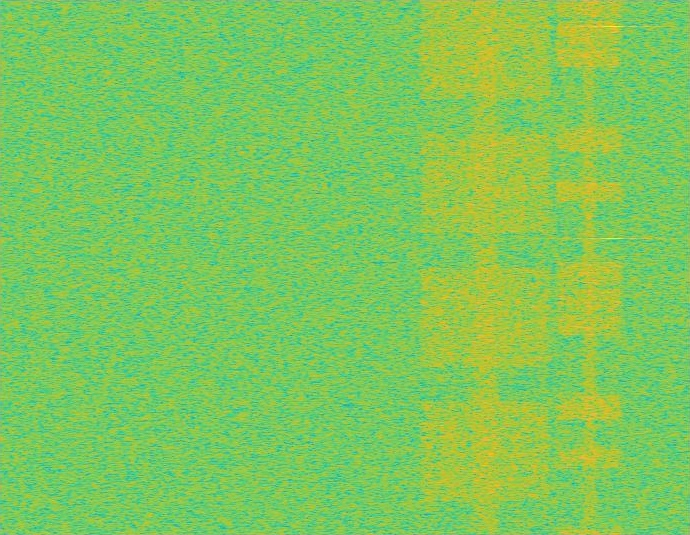5G: (417, 0, 555, 534)
DSSS: (470, 0, 501, 534), (581, 0, 597, 534)
LTE: (555, 0, 624, 534)
Radar: (606, 0, 619, 534)
